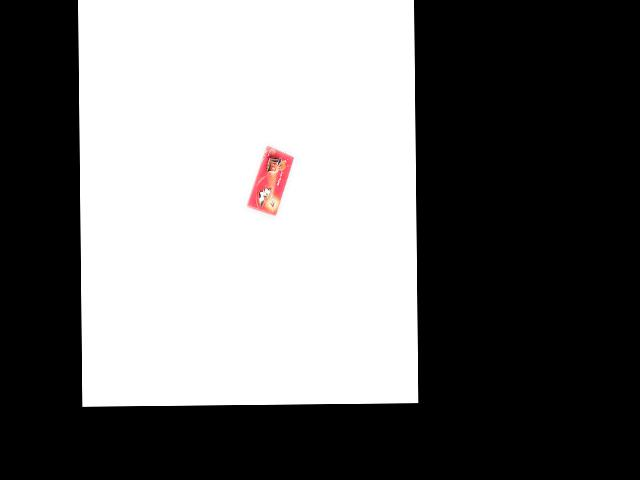chocolate: (246, 144, 295, 214)
